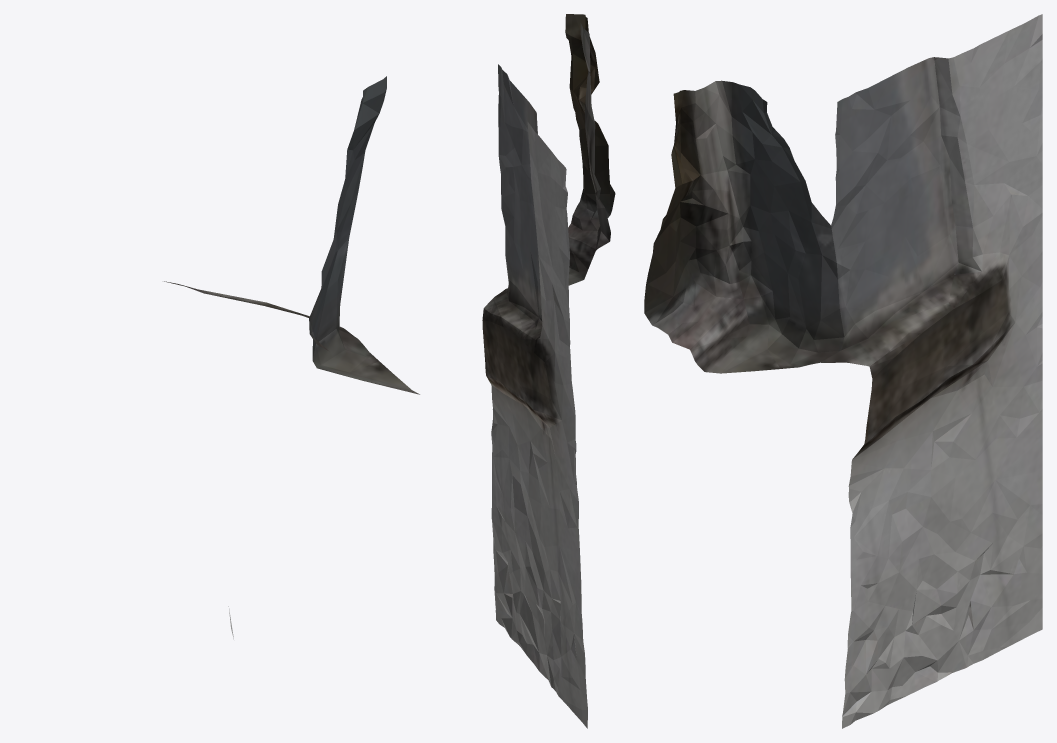
3 views of the same model, side by side, from view 1: azimuth 30°, elevation 25°; view 2: azimuth 150°, elevation 25°; view 3: azimuth 270°, elevation 25° (orthographic). The views are drawn at different scales.
Bounding box in the file's own units: 0.286 × 0.8374 × 0.4823.
2 materials, 2 textured.
